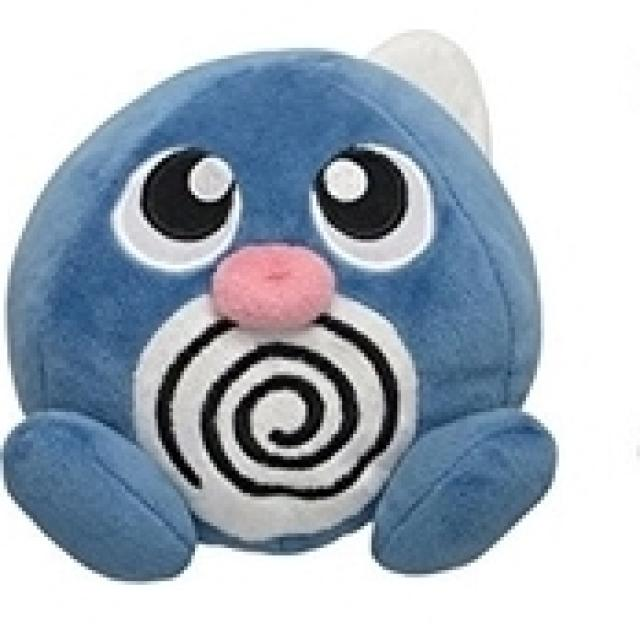Poliwag: (8, 37, 560, 554)
